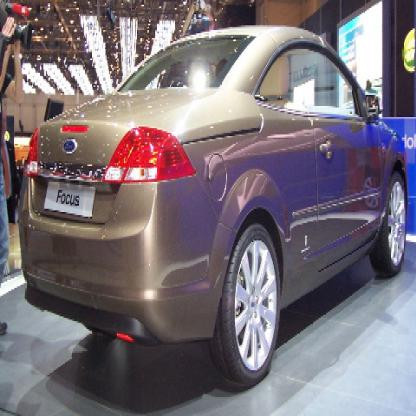car: (18, 25, 408, 389)
person: (1, 4, 23, 336)
